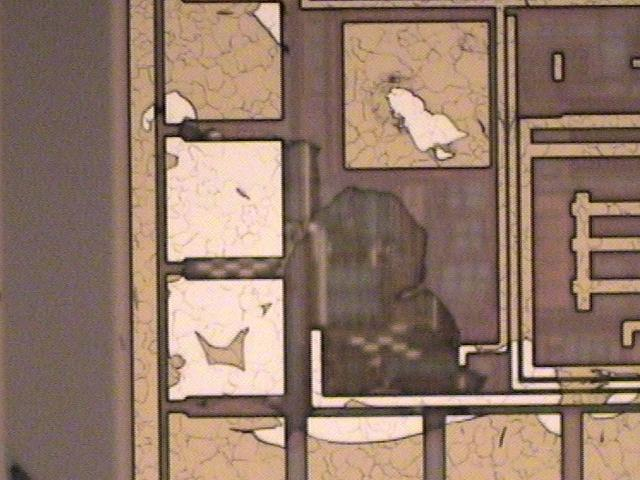COATING BAD: (140, 2, 640, 454)
